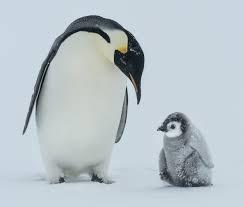emporer: (19, 9, 157, 191)
